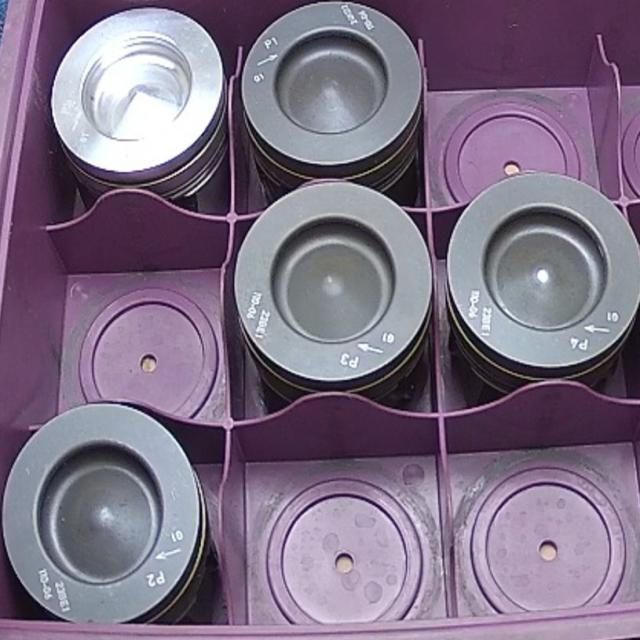P1: (243, 4, 430, 182), (48, 10, 222, 198)
P2: (5, 421, 205, 615)
P3: (242, 192, 430, 392)
P4: (455, 176, 634, 376)
